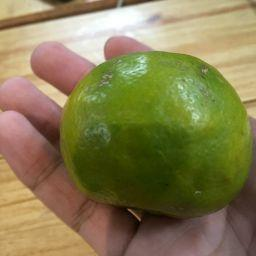Unripe: (59, 51, 252, 217)
